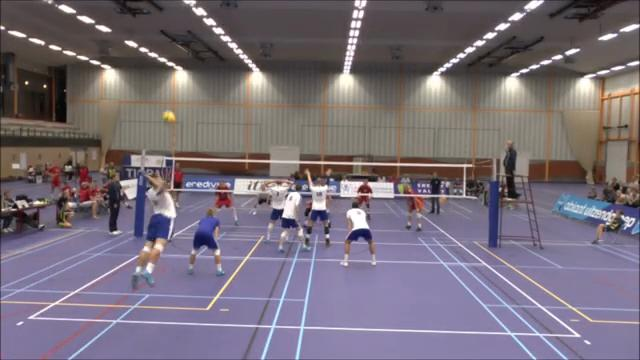battuta: (129, 168, 178, 290)
